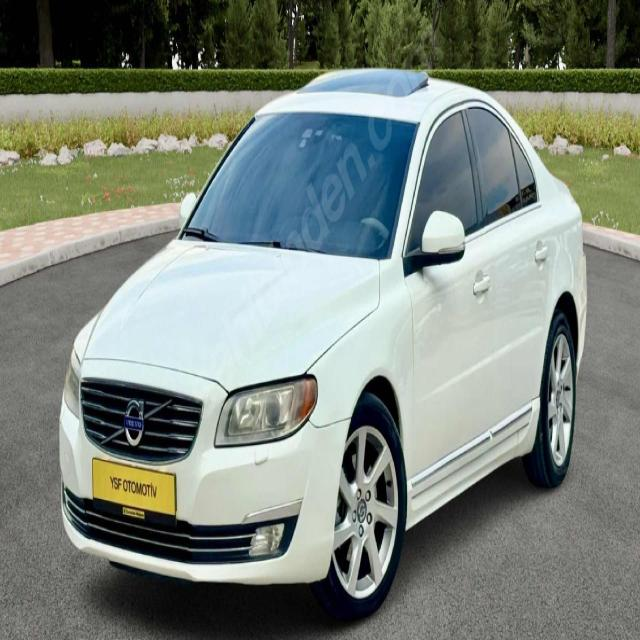volvo: (121, 392, 146, 449)
